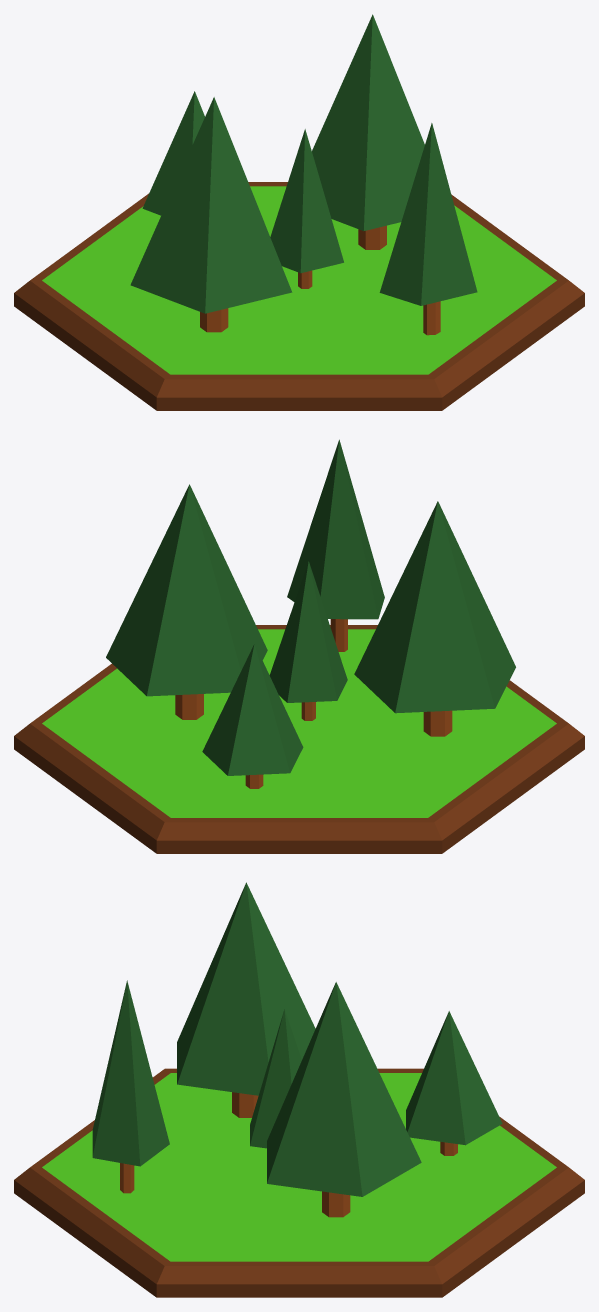
File: trees2_hex.fbx
3 renders of one model, top to bottom at view 1: azimuth 30°, elevation 25°; view 2: azimuth 150°, elevation 25°; view 3: azimuth 270°, elevation 25°, orthographic.
Parts seen in each view (by area): view 1: Cylinder, Cylinder.004, Cylinder.002, Cylinder.005, Cylinder.003, Cylinder.001; view 2: Cylinder, Cylinder.004, Cylinder.002, Cylinder.005, Cylinder.001, Cylinder.003; view 3: Cylinder, Cylinder.002, Cylinder.004, Cylinder.005, Cylinder.001, Cylinder.003.
Boxes of the visible parts, x1,y1,x2,y2 form: Cylinder: (14, 182, 584, 410); Cylinder.004: (130, 97, 292, 332); Cylinder.002: (312, 14, 424, 249); Cylinder.005: (379, 123, 477, 335); Cylinder.003: (270, 129, 343, 288); Cylinder.001: (142, 91, 204, 215); Cylinder: (14, 625, 584, 853); Cylinder.004: (354, 501, 515, 736); Cylinder.002: (106, 484, 267, 719); Cylinder.005: (287, 439, 384, 651); Cylinder.001: (202, 644, 303, 788); Cylinder.003: (269, 561, 347, 720); Cylinder: (14, 1068, 584, 1297); Cylinder.002: (267, 982, 421, 1217); Cylinder.004: (177, 882, 315, 1117); Cylinder.005: (92, 980, 169, 1193); Cylinder.001: (406, 1011, 502, 1155); Cylinder.003: (250, 1009, 301, 1148).
Bounding box in the file's own units: 173 × 99.13 × 200.
